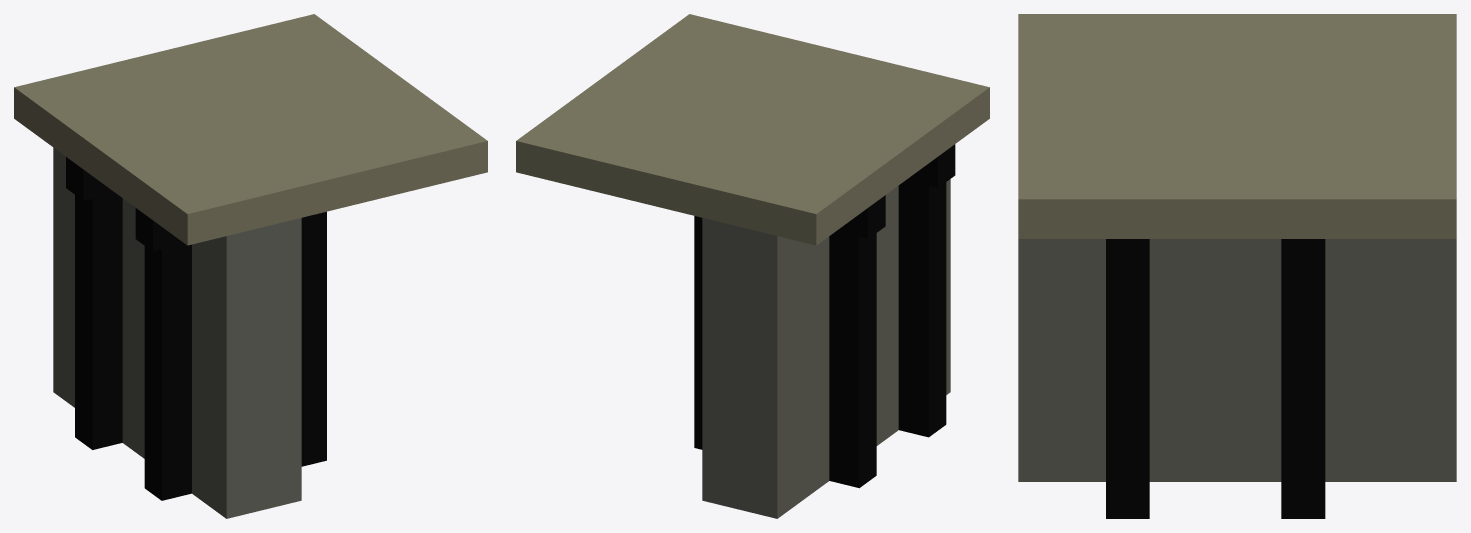
File: M_Floor04.fbx
3 renders of one model, left to right at view 1: azimuth 30°, elevation 25°; view 2: azimuth 150°, elevation 25°; view 3: azimuth 270°, elevation 25°, orthographic. The views are drawn at different scales.
Parts seen in each view (by area): view 1: M_Floor04; view 2: M_Floor04; view 3: M_Floor04.
Boxes of the visible parts, x1,y1,x2,y2 form: M_Floor04: [14, 14, 487, 518]; M_Floor04: [516, 14, 989, 518]; M_Floor04: [1018, 14, 1456, 518].
Bounding box in the file's own units: 100 × 100 × 100.
